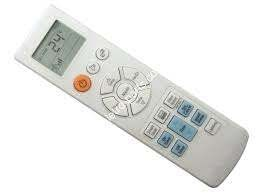remote control: (6, 7, 254, 194)
